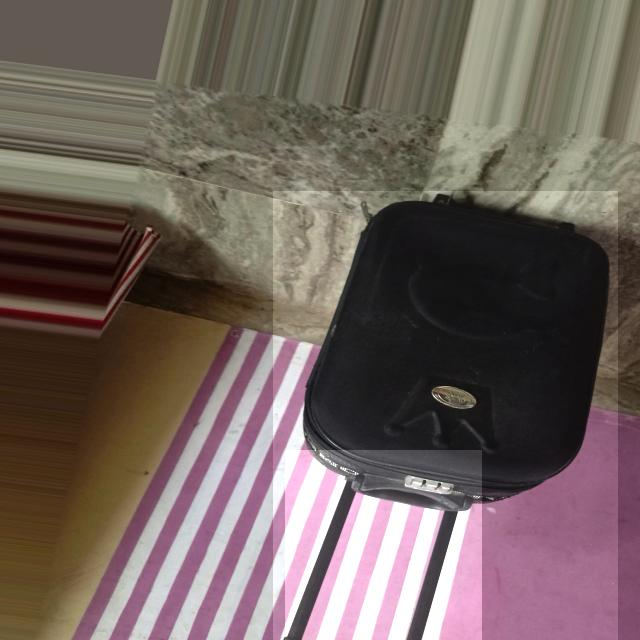Bag: (268, 193, 618, 640)
Handle: (288, 457, 482, 640)
